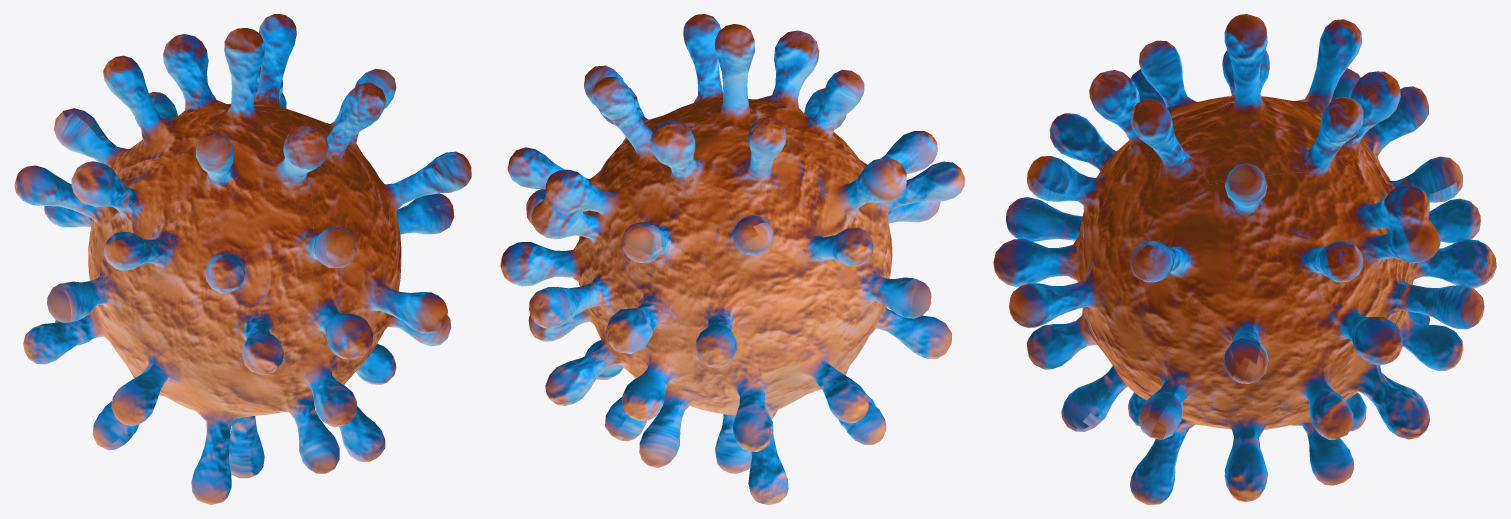
Rendered from cell.glb.
3 views of the same model, side by side, from view 1: azimuth 30°, elevation 25°; view 2: azimuth 150°, elevation 25°; view 3: azimuth 270°, elevation 25° (orthographic). The views are drawn at different scales.
Parts seen in each view (by area): view 1: covid_virus_geometry; view 2: covid_virus_geometry; view 3: covid_virus_geometry.
Part boxes in pixels (left/top/right/bottom): covid_virus_geometry: left=14, top=14, right=471, bottom=504; covid_virus_geometry: left=500, top=14, right=964, bottom=504; covid_virus_geometry: left=993, top=14, right=1496, bottom=504.
Size of the model in its own units: 0.8728 by 0.9298 by 0.8866.
1 material, 1 textured.
